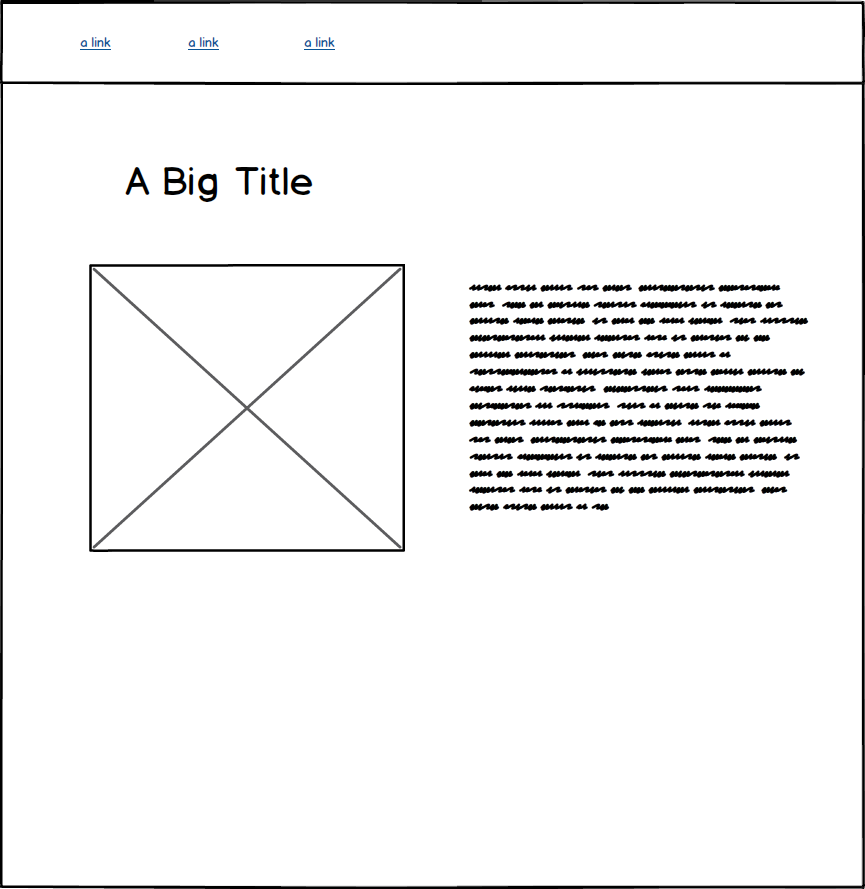h1: (125, 158, 320, 209)
image: (84, 263, 409, 561)
navlink: (184, 32, 224, 55), (301, 32, 341, 52), (74, 35, 114, 51)
p: (461, 274, 822, 520)
